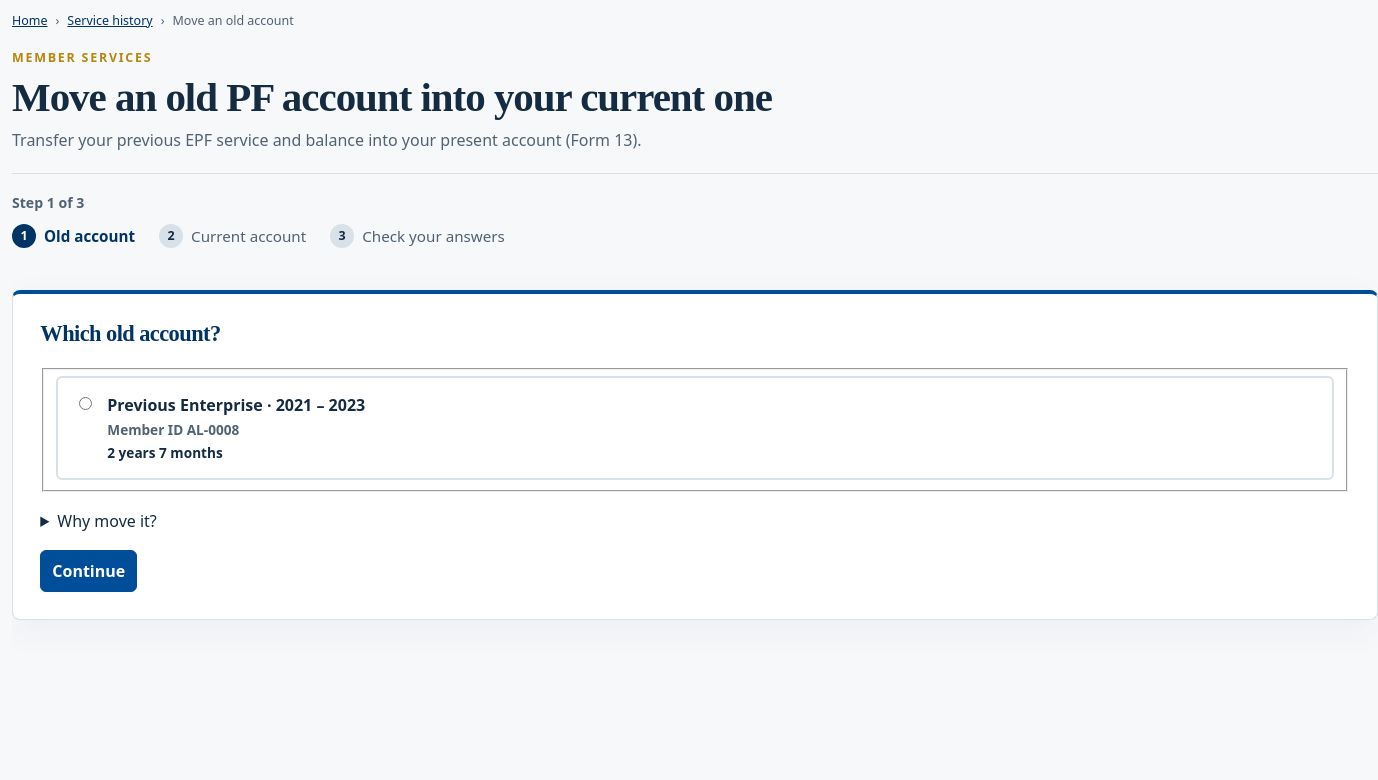
P2.28c TransferJourneyPage › omits 'About to move' row on Check your answers when balance is missing
Click the radio button labelled "Previous Enterprise": (86, 404) [79, 397, 92, 410]
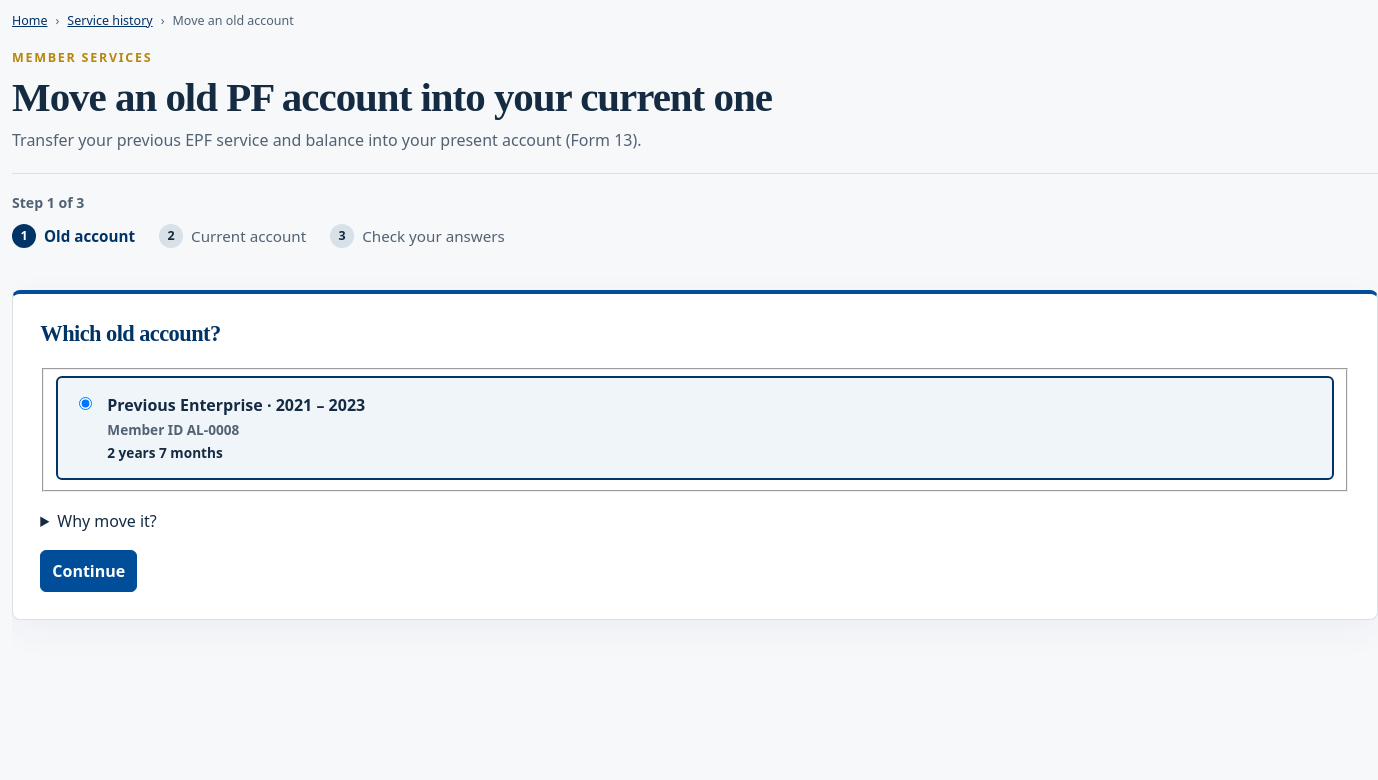
Click the button "Continue": (89, 571) [40, 550, 137, 592]
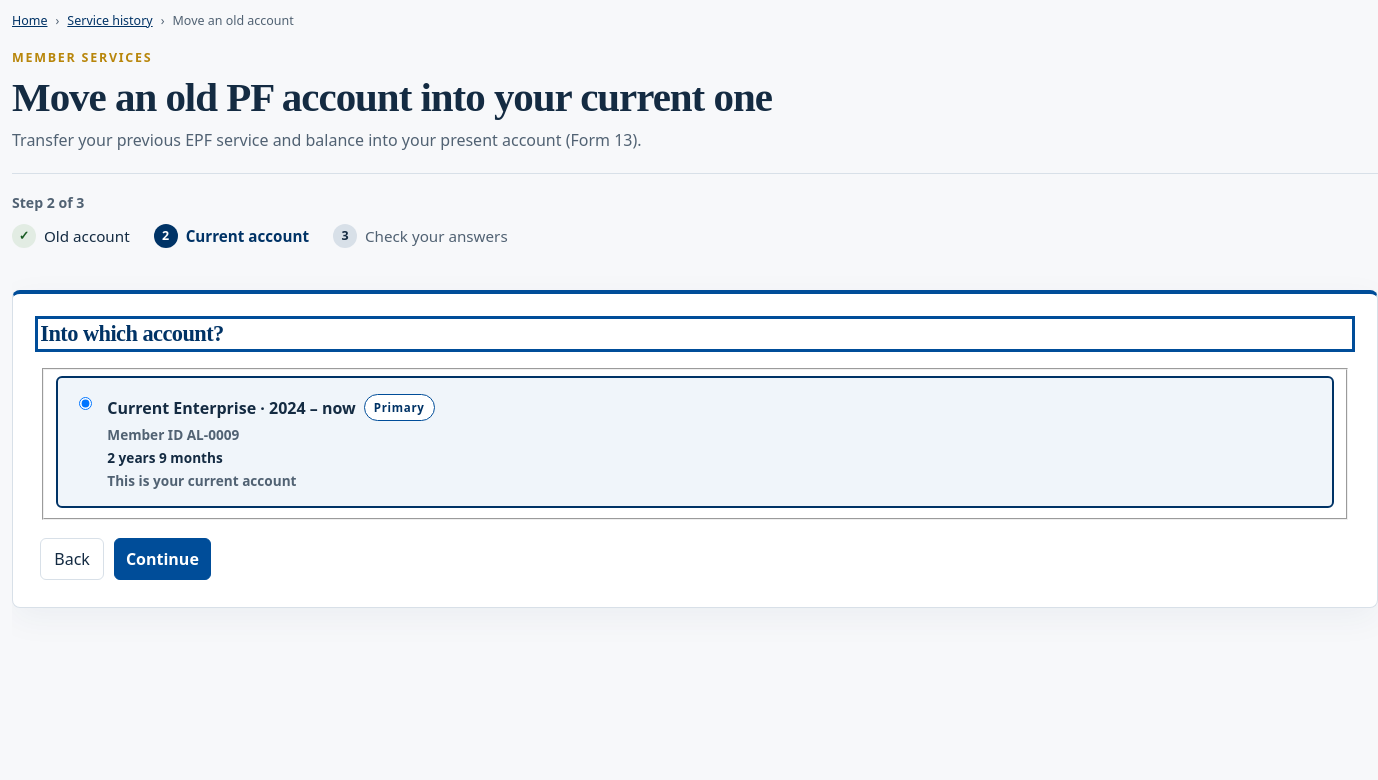
Click the button "Continue": (162, 559) [114, 538, 211, 580]
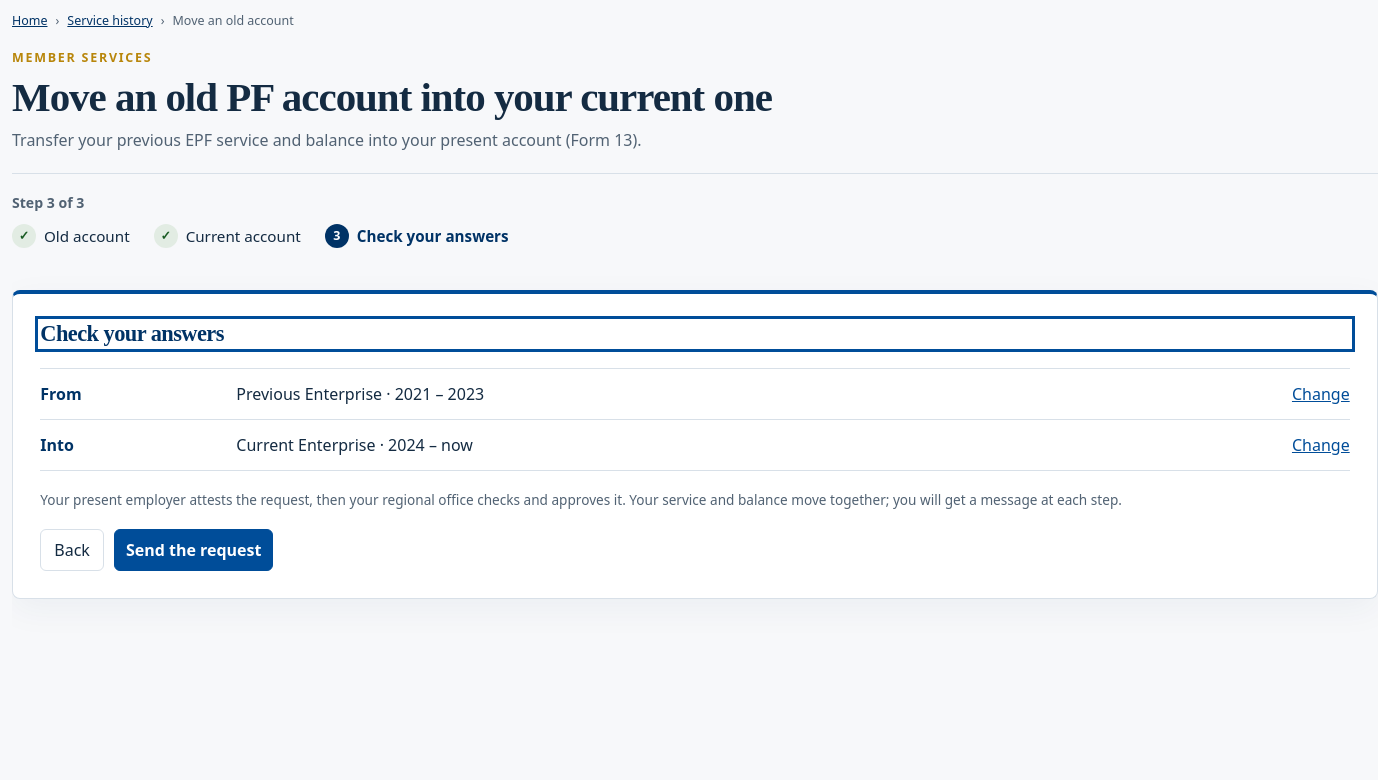
expect the heading "Check your answers" is shown: met, box [40, 321, 224, 346]
